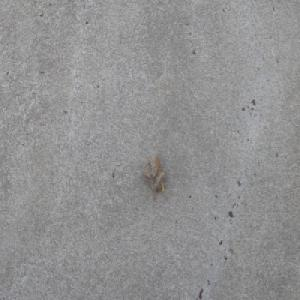Rock: (140, 150, 166, 195)
